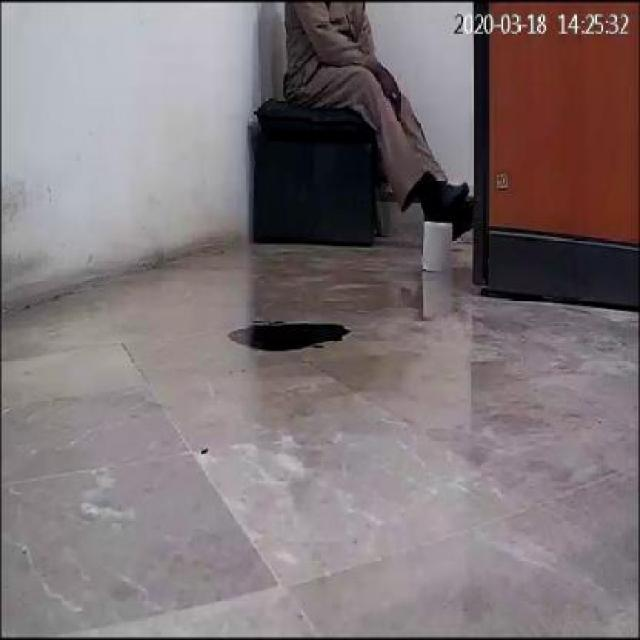spill: (228, 316, 350, 350)
